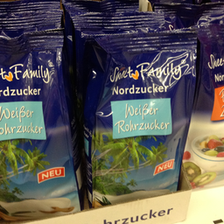sugar: (84, 31, 197, 208), (1, 27, 82, 219)
